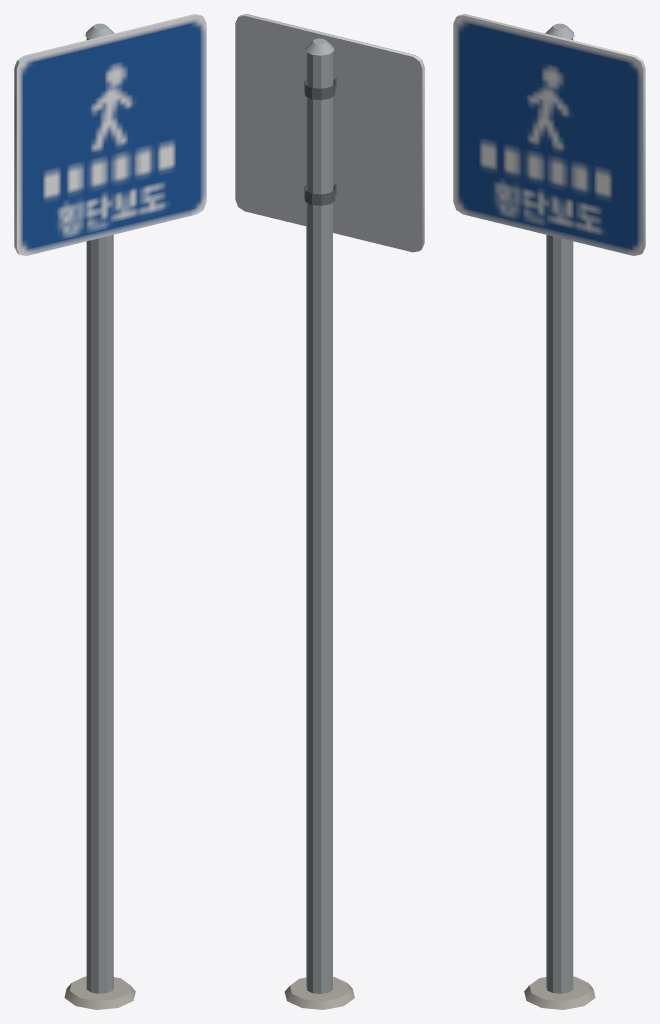
The model's file is SC_Str_Sign_Crosswalk.gltf.
The picture shows the model from 3 angles, left to right: view 1: azimuth 30°, elevation 25°; view 2: azimuth 150°, elevation 25°; view 3: azimuth 330°, elevation 25°; orthographic projection.
Parts seen in each view (by area): view 1: SC_Str_Sign_Crosswalk; view 2: SC_Str_Sign_Crosswalk; view 3: SC_Str_Sign_Crosswalk.
Boxes of the visible parts, x1,y1,x2,y2 form: SC_Str_Sign_Crosswalk: (14, 14, 206, 1009); SC_Str_Sign_Crosswalk: (235, 14, 424, 1009); SC_Str_Sign_Crosswalk: (453, 14, 645, 1009).
Size of the model in its own units: 0.6 by 2.93 by 0.2.
Materials: 2 (2 with a texture image).
